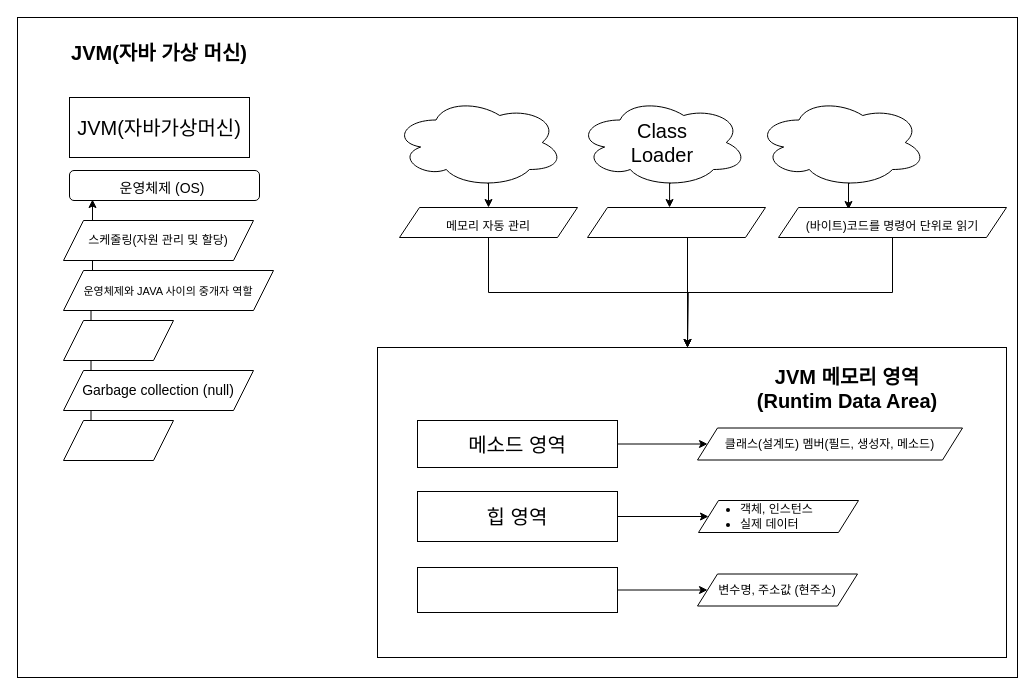
The diagram is 1035 pixels wide and 695 high, and some of its shapes have lost their labels. Here are the shapes that lost their labels. From the top down, the box of each, then its label:
(392, 96, 564, 188): Garbage collection
(756, 96, 926, 188): Execution Engine
(586, 206, 766, 238): 실행 시 클래스 불러오기
(62, 320, 174, 360): 메모리관리
(62, 420, 174, 460): 스택기반
(416, 566, 618, 612): 스택 영역
